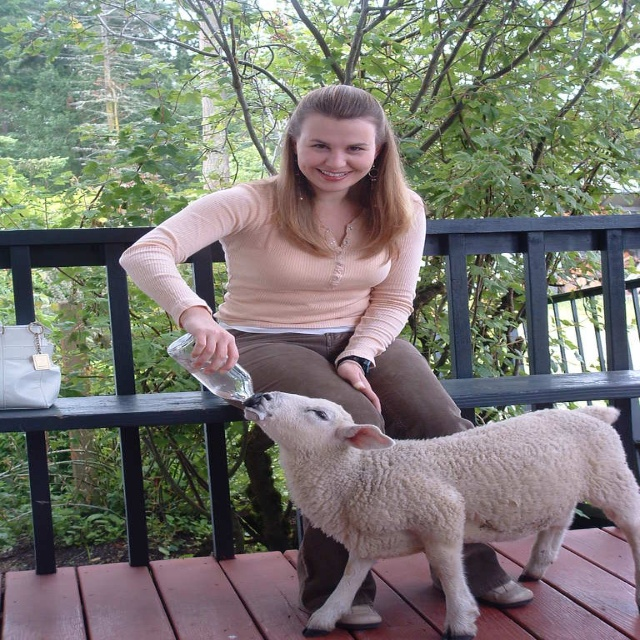Sheep: (244, 392, 639, 640)
